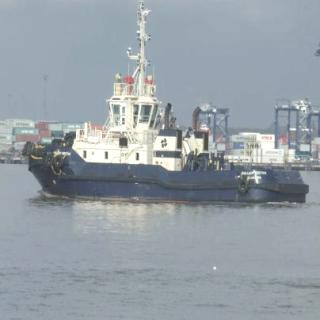Tug Boat: (24, 13, 299, 198)
